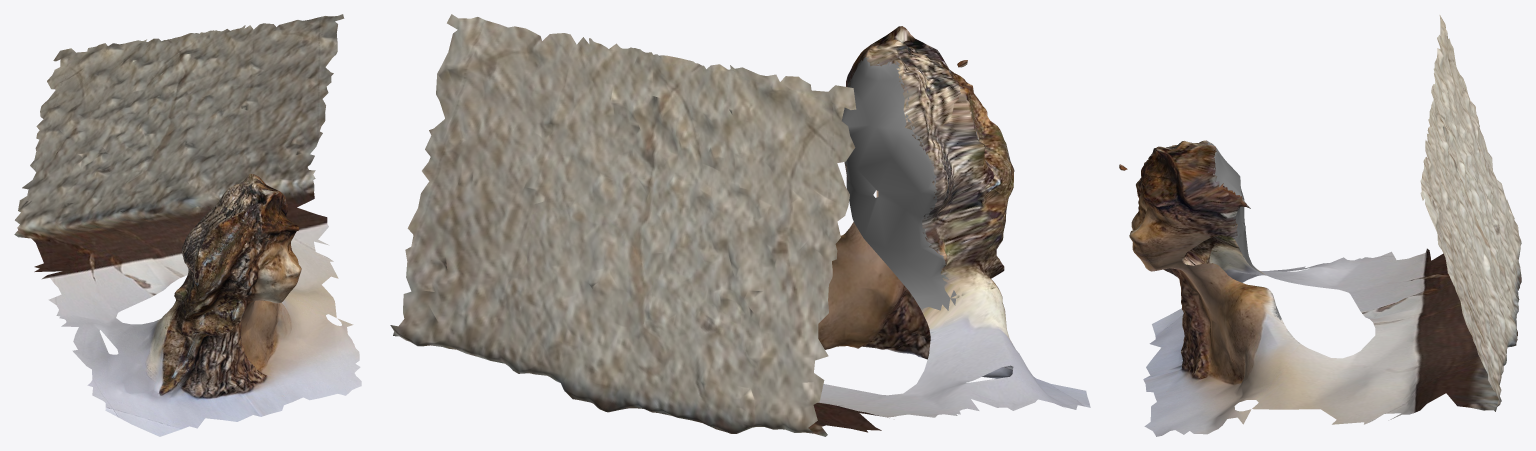
Rendered from sadLady.obj.
3 renders of one model, left to right at view 1: azimuth 30°, elevation 25°; view 2: azimuth 150°, elevation 25°; view 3: azimuth 270°, elevation 25°, orthographic. The views are drawn at different scales.
Parts seen in each view (by area): view 1: default; view 2: default; view 3: default.
Part boxes in pixels (x1,y1,x2,y2): default: (14, 14, 361, 436); default: (390, 14, 1090, 436); default: (1119, 15, 1521, 436).
Bounding box in the file's own units: 26.15 × 21.24 × 23.73.
Materials: 2 (1 with a texture image).
